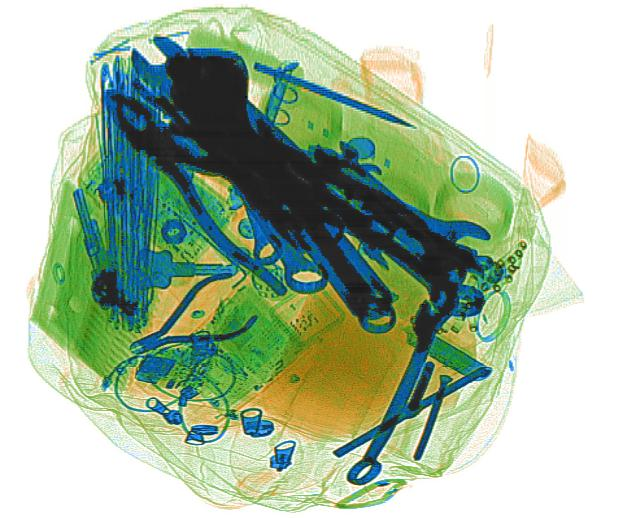battery: (402, 321, 487, 381)
